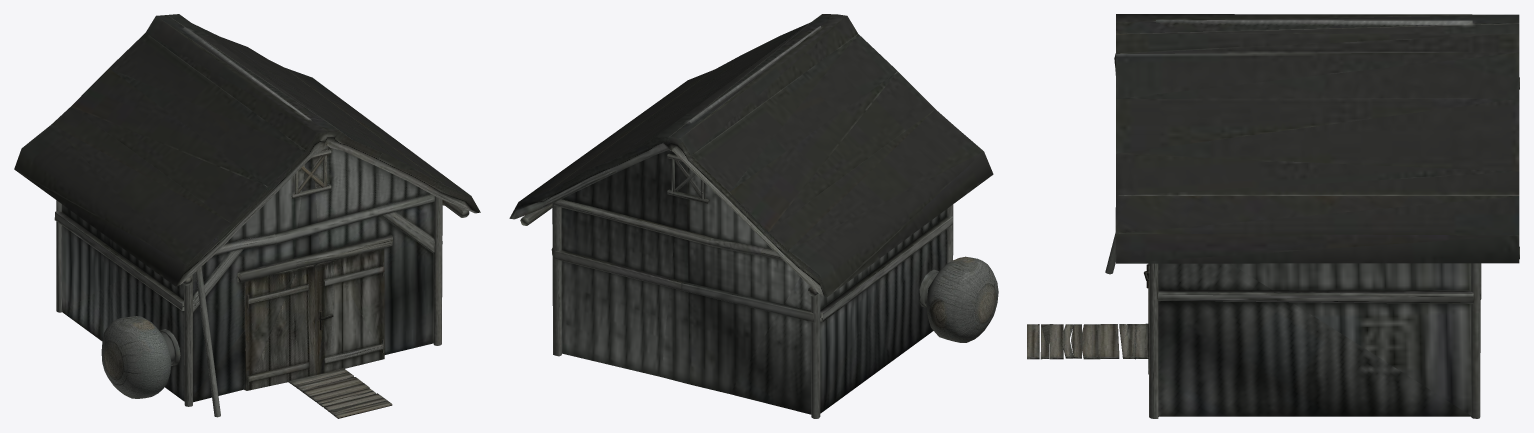
File: world-barn.glb
3 views of the same model, side by side, from view 1: azimuth 30°, elevation 25°; view 2: azimuth 150°, elevation 25°; view 3: azimuth 270°, elevation 25° (orthographic). The views are drawn at different scales.
Size of the model in its own units: 4.94 by 3.59 by 5.
Materials: 1 (1 with a texture image).
